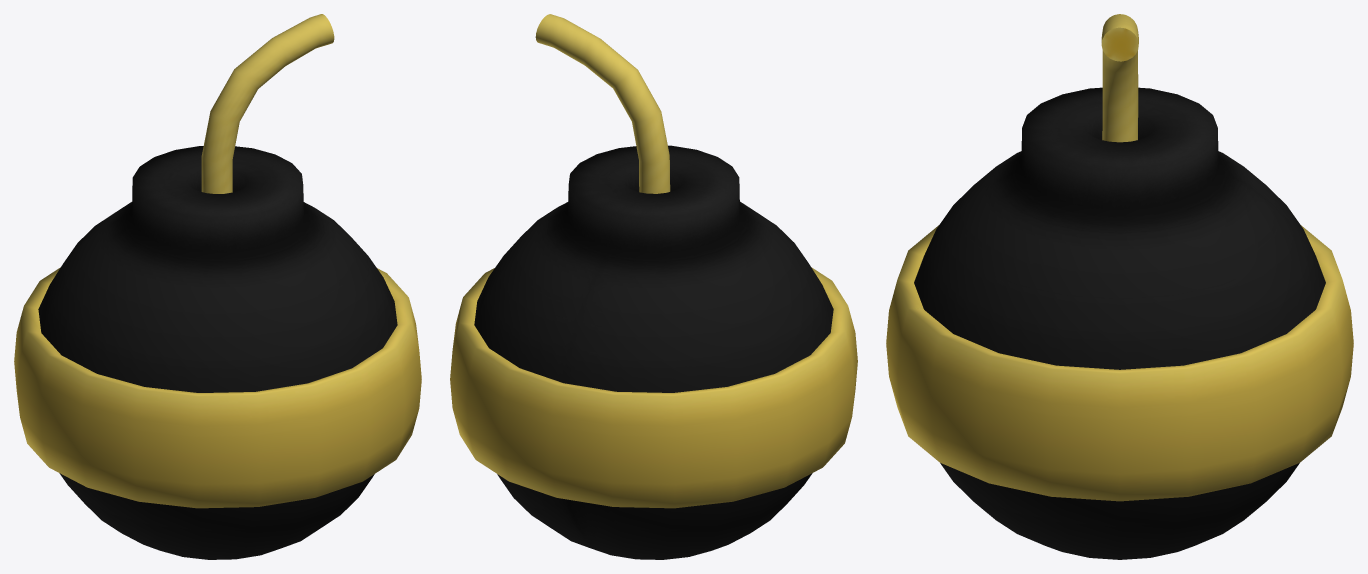
File: Bomb.fbx
3 renders of one model, left to right at view 1: azimuth 30°, elevation 25°; view 2: azimuth 150°, elevation 25°; view 3: azimuth 270°, elevation 25°, orthographic. The views are drawn at different scales.
Visible parts, largest first — view 1: SphereBlast01_low, SphereBlast02_low, SphereBlast03_low; view 2: SphereBlast01_low, SphereBlast02_low, SphereBlast03_low; view 3: SphereBlast01_low, SphereBlast02_low, SphereBlast03_low.
Part boxes in pixels (bbox=[...]): SphereBlast01_low: bbox=[38, 146, 397, 559]; SphereBlast02_low: bbox=[14, 267, 421, 508]; SphereBlast03_low: bbox=[201, 14, 334, 193]; SphereBlast01_low: bbox=[474, 145, 833, 559]; SphereBlast02_low: bbox=[450, 267, 857, 508]; SphereBlast03_low: bbox=[535, 14, 670, 193]; SphereBlast01_low: bbox=[914, 87, 1325, 559]; SphereBlast02_low: bbox=[886, 225, 1353, 501]; SphereBlast03_low: bbox=[1101, 14, 1138, 142].
Bounding box in the file's own units: 2.16 × 2.91 × 2.16.
